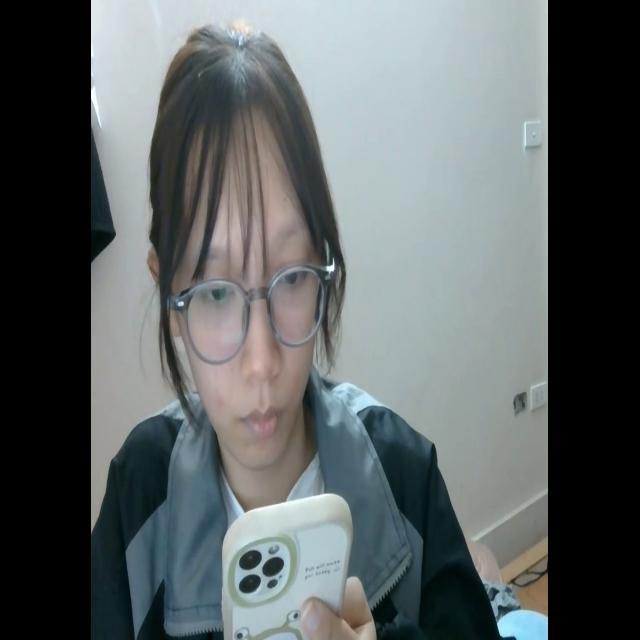phone: (216, 490, 355, 640)
student: (102, 22, 500, 640)
